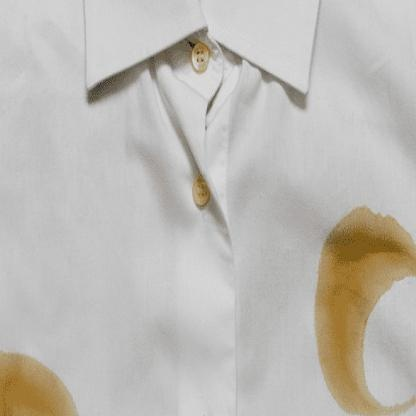coffee: (326, 224, 403, 285), (318, 299, 360, 386), (1, 363, 48, 415)
